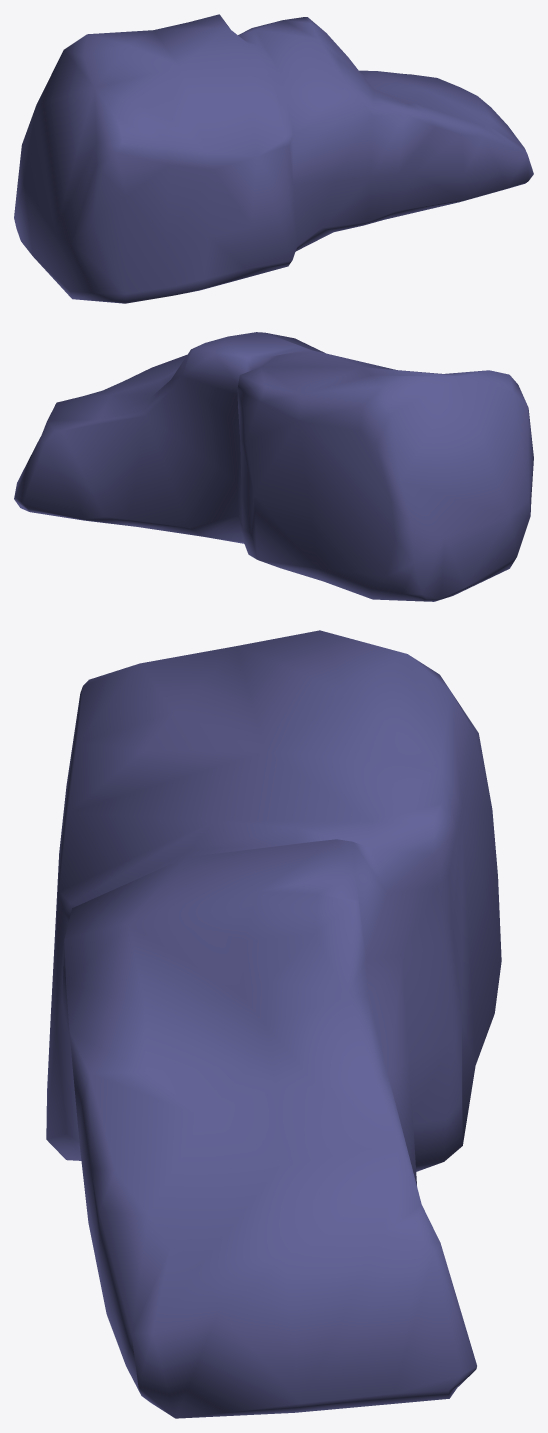
File: RuinsWall_4.fbx
3 renders of one model, top to bottom at view 1: azimuth 30°, elevation 25°; view 2: azimuth 150°, elevation 25°; view 3: azimuth 270°, elevation 25°, orthographic. The views are drawn at different scales.
Parts seen in each view (by area): view 1: RuinsWall_4; view 2: RuinsWall_4; view 3: RuinsWall_4.
Part boxes in pixels (<box>): RuinsWall_4: <box>14,14,533,303</box>; RuinsWall_4: <box>14,332,533,601</box>; RuinsWall_4: <box>46,630,501,1418</box>.
Size of the model in its own units: 315 by 134 by 134.
